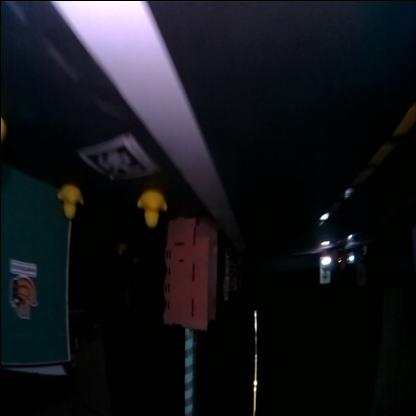Duckie: (136, 192, 166, 228), (56, 186, 82, 218)
QR code: (78, 136, 154, 182)
